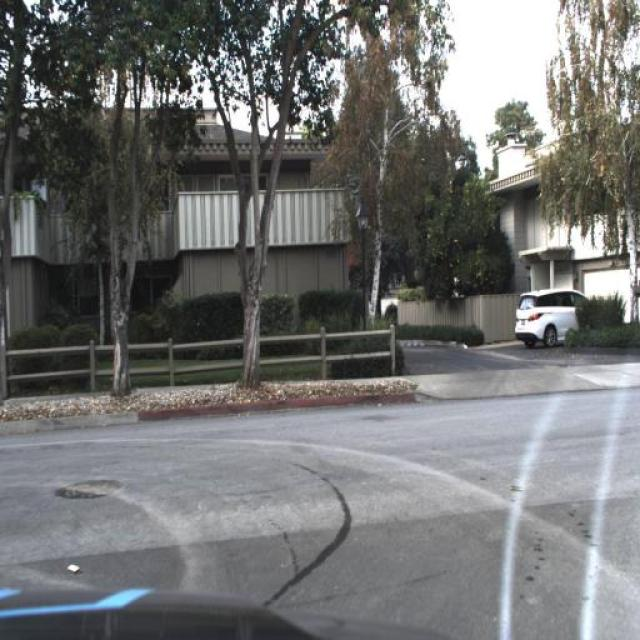car: (514, 288, 594, 352), (512, 288, 592, 350)
